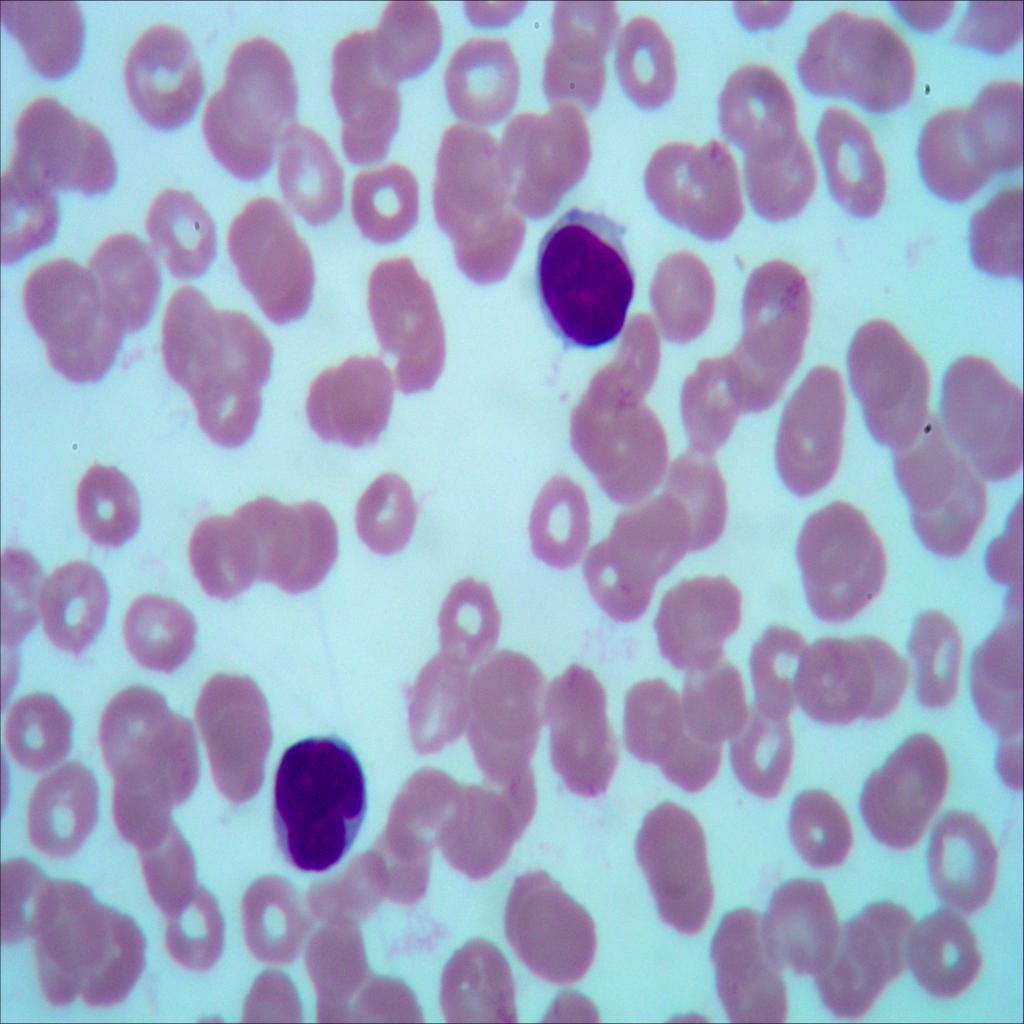Limfoblast: (252, 710, 378, 882), (526, 194, 644, 360)
